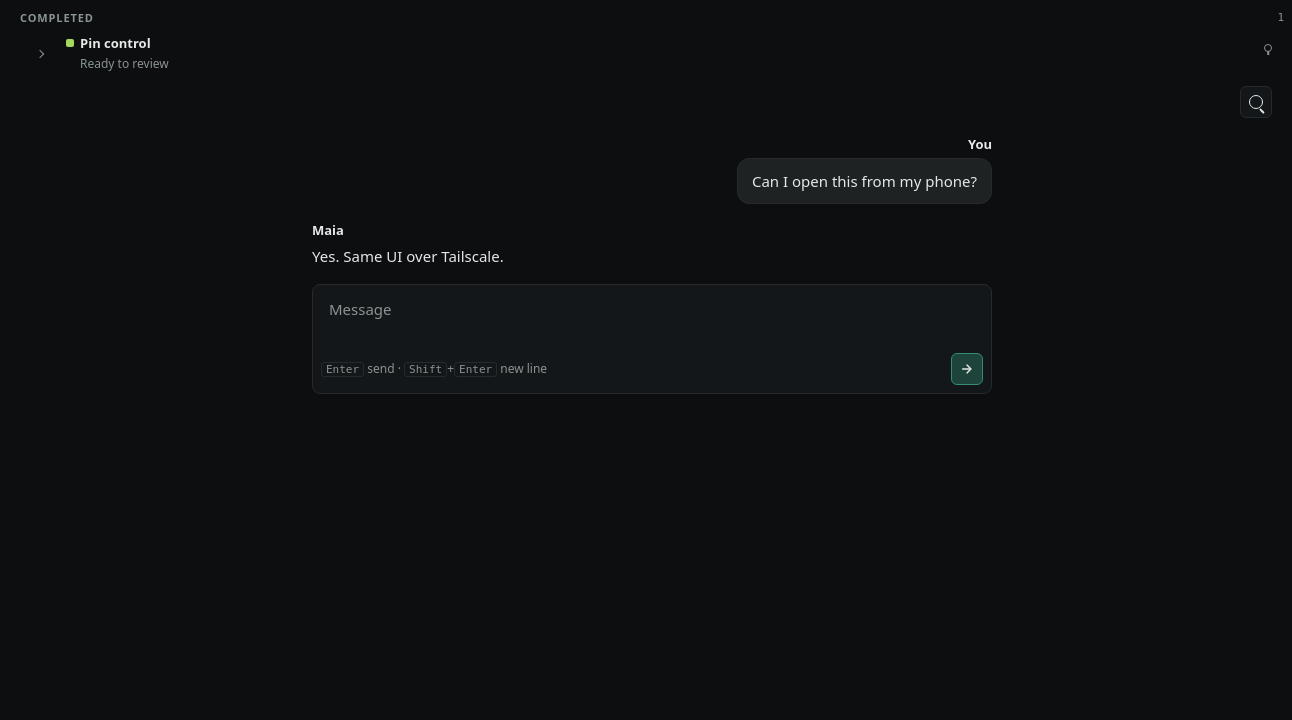
Test: RouterConversation › archives a completed task on detail close unless it is pinned
Click the button with aria-label "Open Pin control".
click(115, 43)  # box 66,34 -> 1246,74
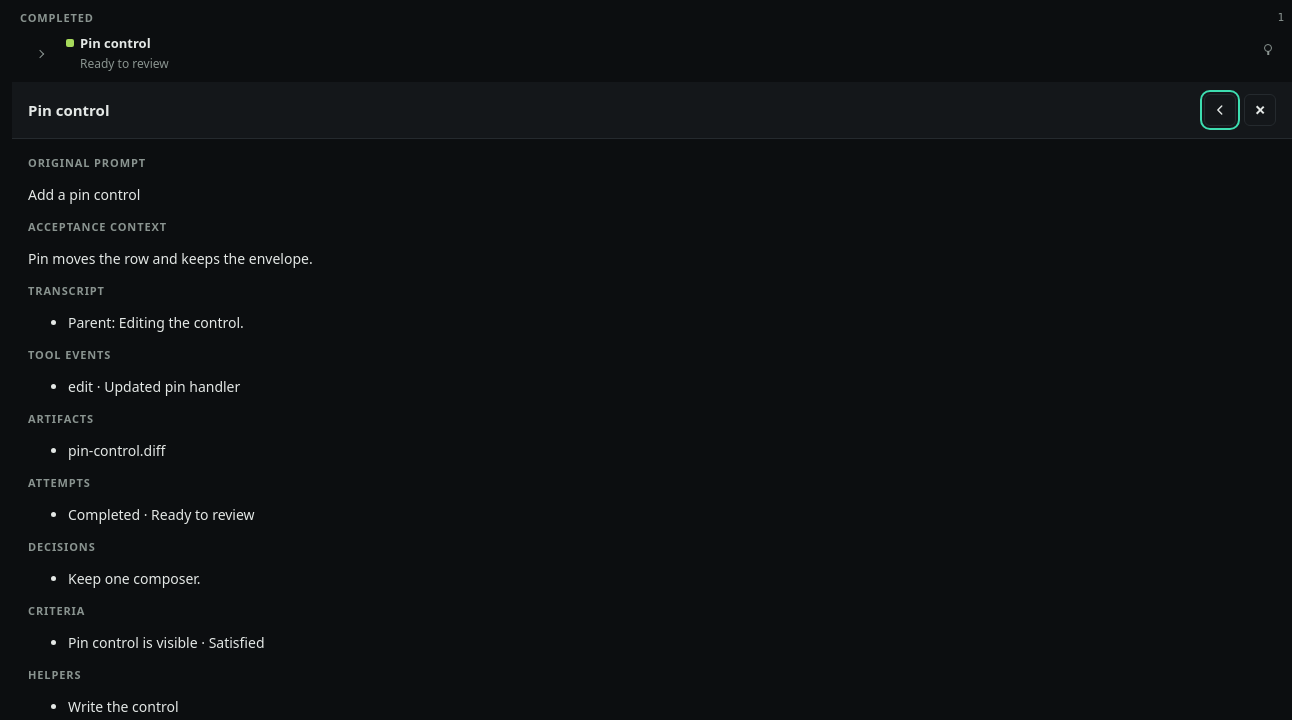
Click the button named "Back to chat".
click(1220, 110)  # box 1204,94 -> 1236,126
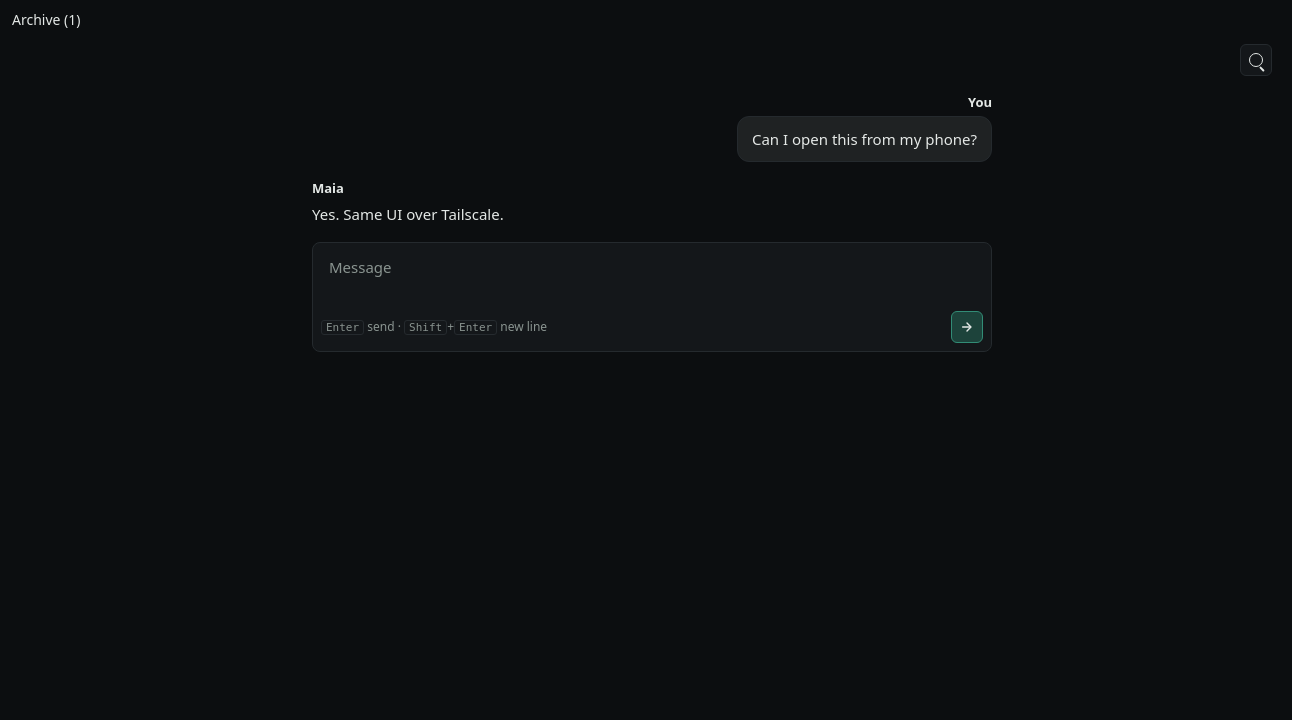
Now the heading "Completed" is gone
Click the heading "Archive (1)".
click(46, 20)  # box 12,10 -> 80,29
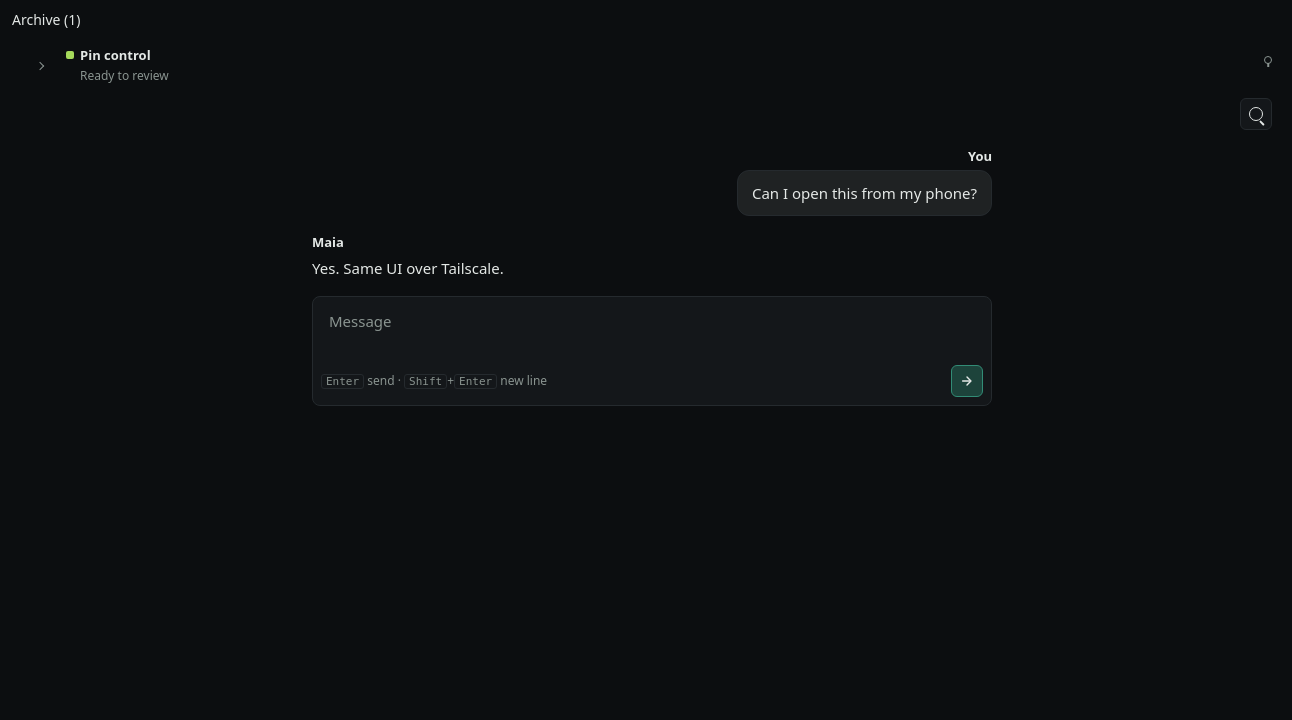
Click the button named "Pin Pin control".
click(1268, 62)  # box 1252,46 -> 1284,78
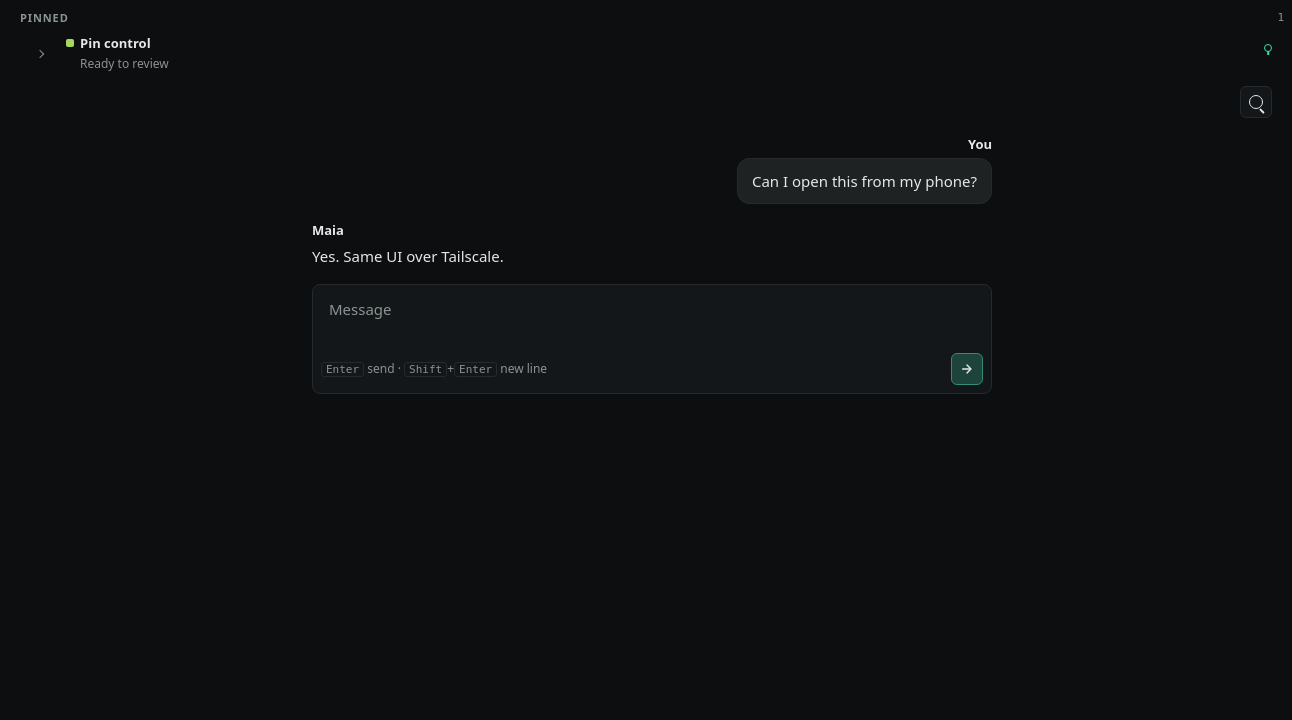
Now the element "Pinned" shows "Pin control", box 66,34 -> 1246,74
Now the heading "Archive" is gone
